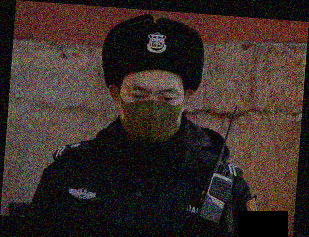with_mask: (119, 83, 185, 144)
